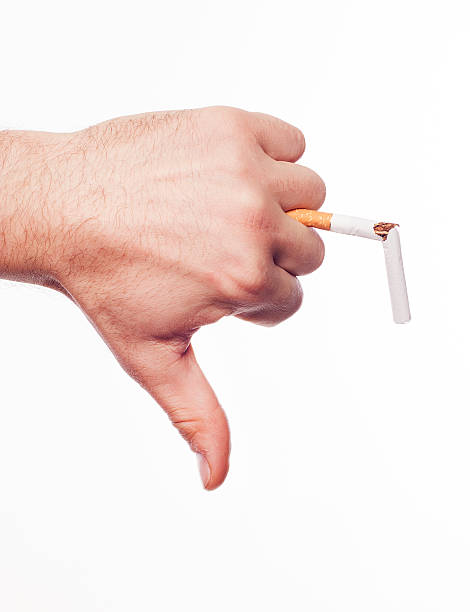cigarette: (286, 205, 416, 324)
